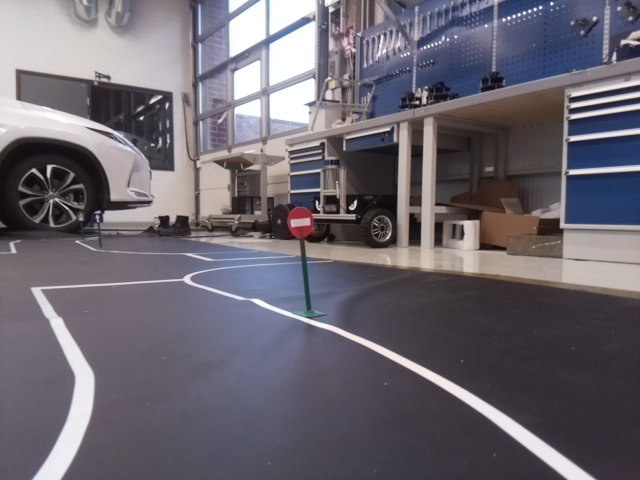NoEntry: (286, 207, 311, 237)
